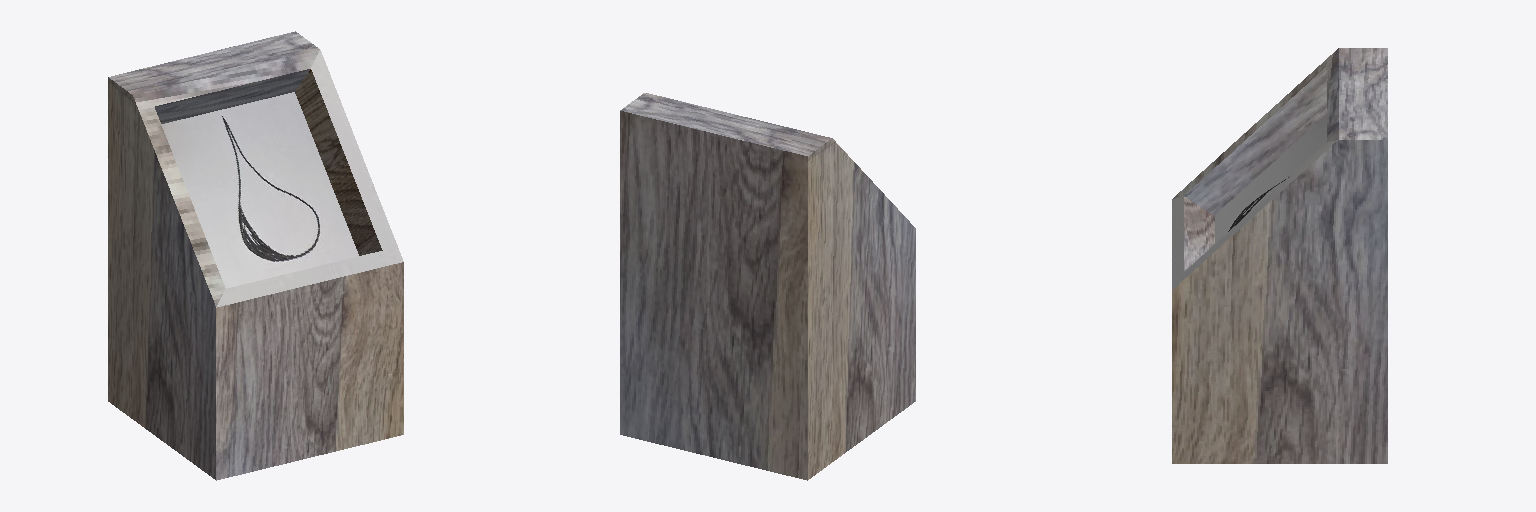
The picture shows the model from 3 angles: view 1: azimuth 30°, elevation 25°; view 2: azimuth 150°, elevation 25°; view 3: azimuth 270°, elevation 25°; orthographic projection.
Parts seen in each view (by area): view 1: Cube.018; view 2: Cube.018; view 3: Cube.018.
Part boxes in pixels (x1,y1,x2,y2): Cube.018: (108, 31, 403, 480); Cube.018: (620, 93, 915, 480); Cube.018: (1172, 48, 1387, 463).
Bounding box in the file's own units: 0.7332 × 1.21 × 0.7332.
1 materials, 1 textured.